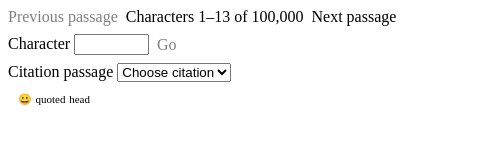
Test: bounded saved evidence passages › does not display stale passage highlights and reloads without the rejected revision
Click the button "Next passage".
click(354, 17)  # box [312, 8, 396, 26]
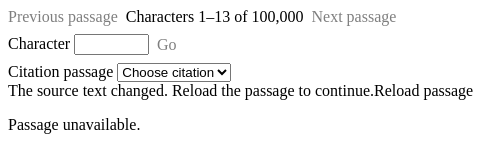
Result: the text "The source text changed. Reload the passage to continue." is shown at [8, 82, 374, 99]
Result: the text with test id "evidence-text-highlight" is gone
Click the button "Reload passage".
click(424, 91)  # box [374, 82, 473, 100]
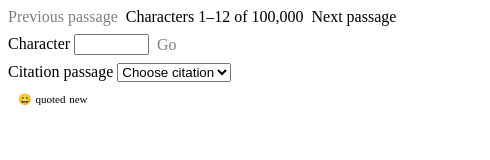
Result: the element with test id "evidence-text-body" reads "😀 quoted new" at [18, 93, 88, 105]
